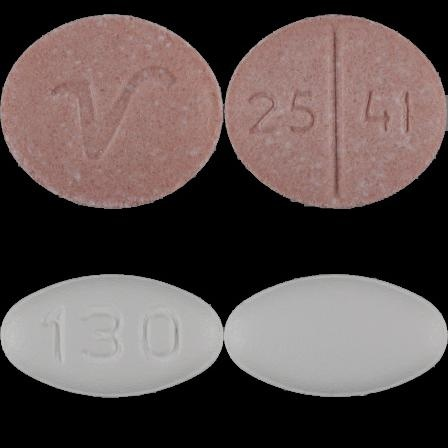66336-786: (0, 0, 224, 224)
